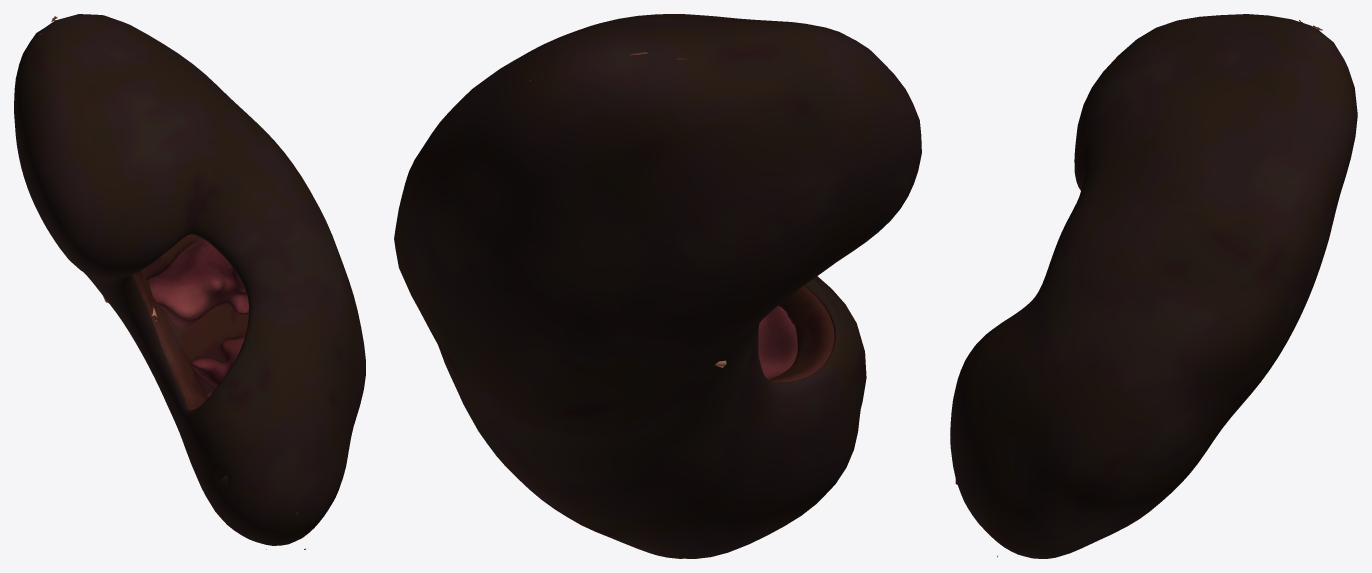
The picture shows the model from 3 angles, left to right: view 1: azimuth 30°, elevation 25°; view 2: azimuth 150°, elevation 25°; view 3: azimuth 270°, elevation 25°; orthographic projection. The views are drawn at different scales.
Parts seen in each view (by area): view 1: capsule, cortex, pyramid_f, pyramid_h; view 2: capsule, cortex, pyramid_i; view 3: capsule.
Boxes of the visible parts, left/top/right/bottom form: capsule: left=14, top=14, right=365, bottom=545; cortex: left=132, top=234, right=248, bottom=410; pyramid_f: left=147, top=238, right=248, bottom=326; pyramid_h: left=190, top=337, right=244, bottom=397; capsule: left=394, top=14, right=921, bottom=558; cortex: left=769, top=286, right=834, bottom=382; pyramid_i: left=758, top=306, right=797, bottom=379; capsule: left=950, top=14, right=1357, bottom=558.
Size of the model in its own units: 1.42 by 2 by 1.55.
